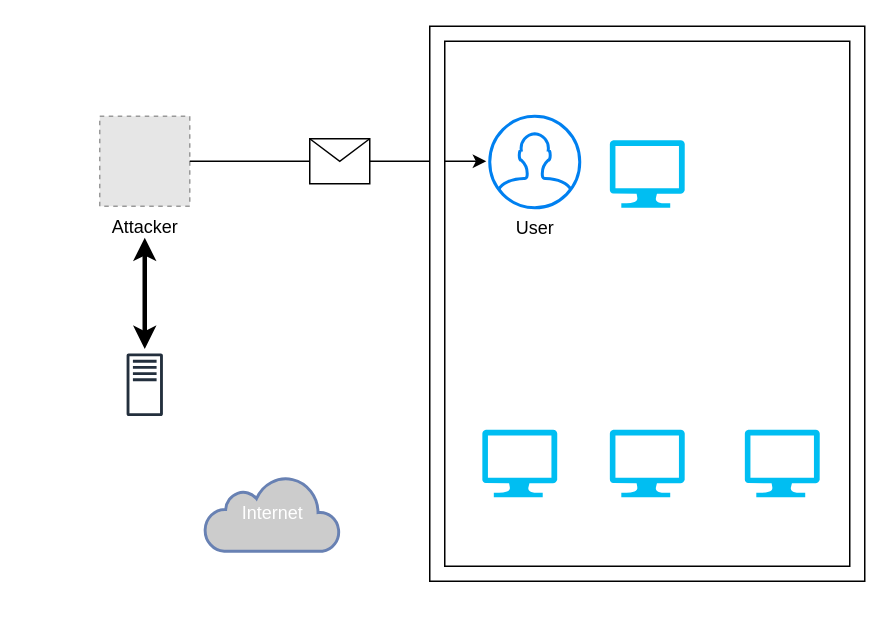
This 891x639 diagram has some shape labels left out. Grey dashed boxes stand in for pictures. Here are the shapes that lost their labels. From the top down, the centre of each, then its label:
At point (646, 303): "Corporate Network".
At point (144, 384): "Command and Control Server".
